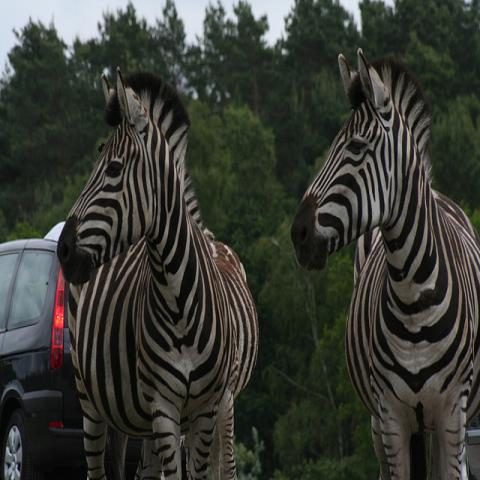car: (1, 241, 142, 474)
